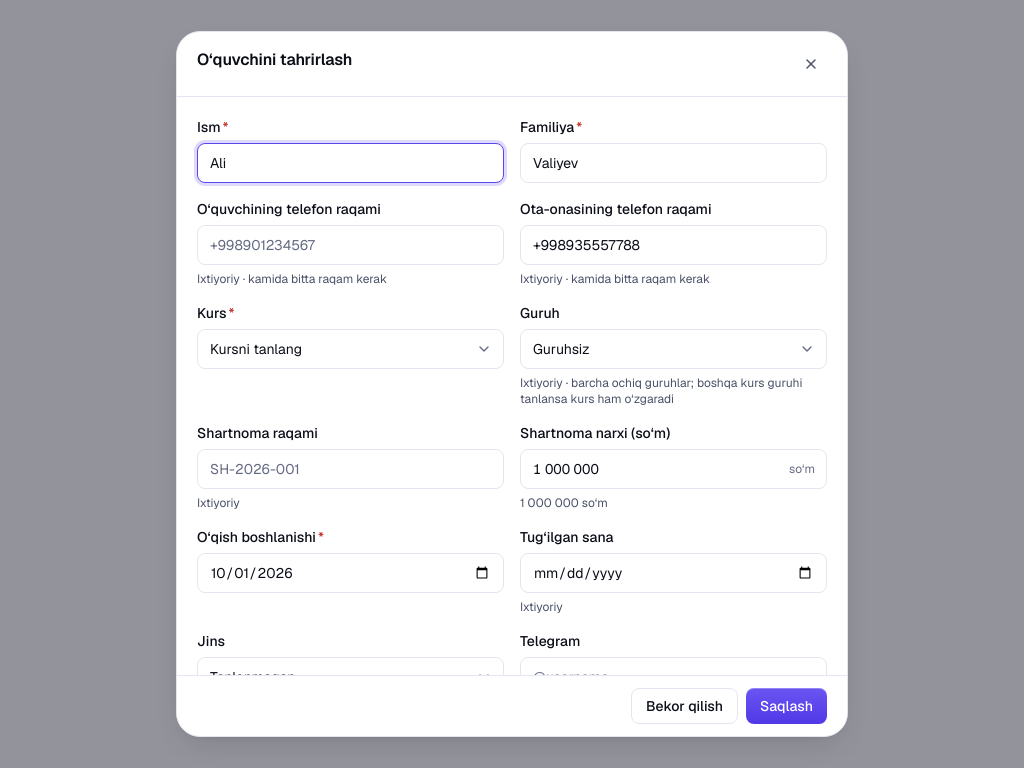
O‘quvchi formasi — telefonlar › tahrirlash: faqat ota-ona raqami bor eski yozuv ochiladi va ikkalasini o‘chirib bo‘lmaydi
expect the field labelled "O‘quvchining telefon raqami" is empty: met, box [197,225,504,265]
Clear the field labelled "Ota-onasining telefon raqami" at [674, 245], box [520,225,827,265]
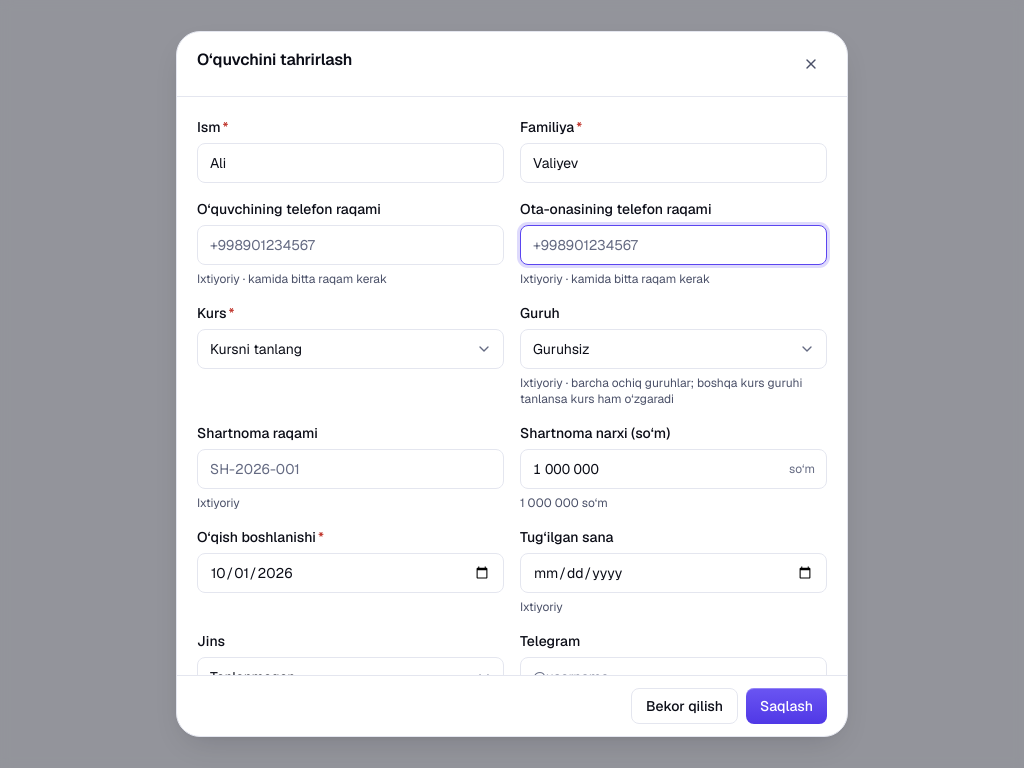
Click the button "Saqlash".
click(786, 706)  # box [746,688,827,724]
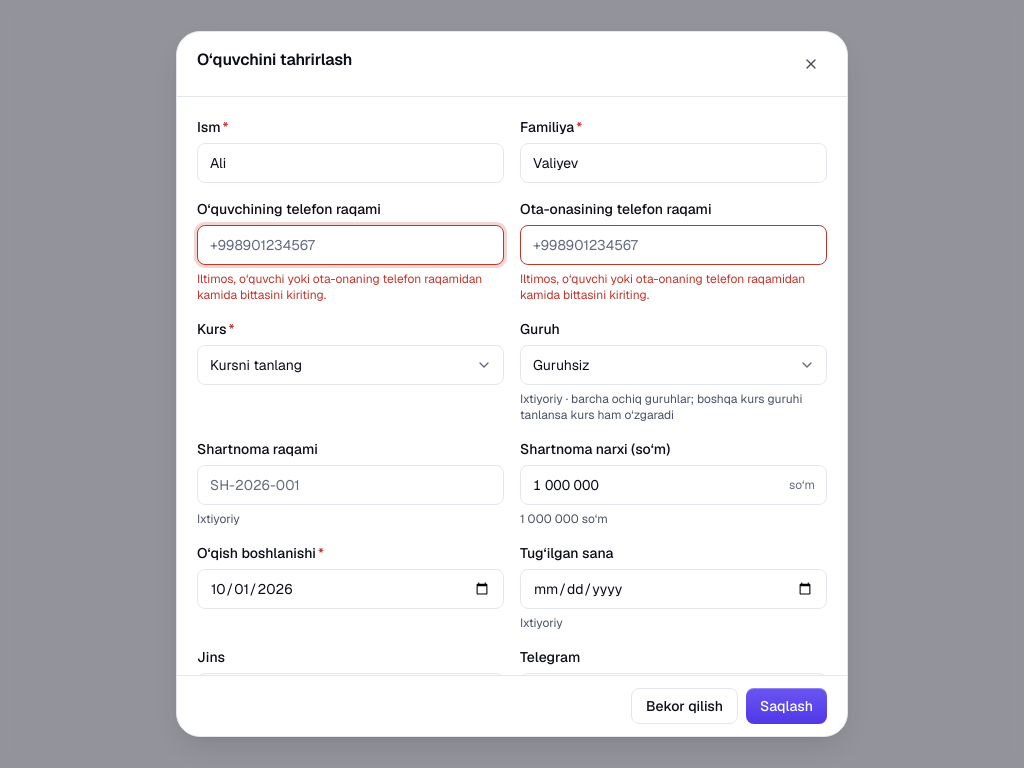
expect the text "Iltimos, o‘quvchi yoki ota-onaning telefon raqamidan kamida bittasini kiriting." is shown 2 times: met, box [197,271,504,303]; [520,271,827,303]
